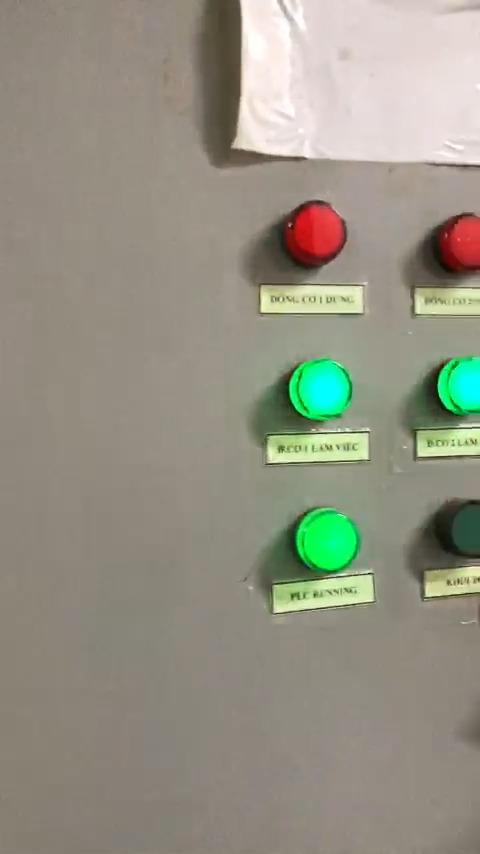led: (294, 506, 361, 574), (282, 200, 348, 266), (287, 358, 353, 418), (428, 210, 480, 276), (433, 352, 480, 420), (433, 494, 480, 561)
